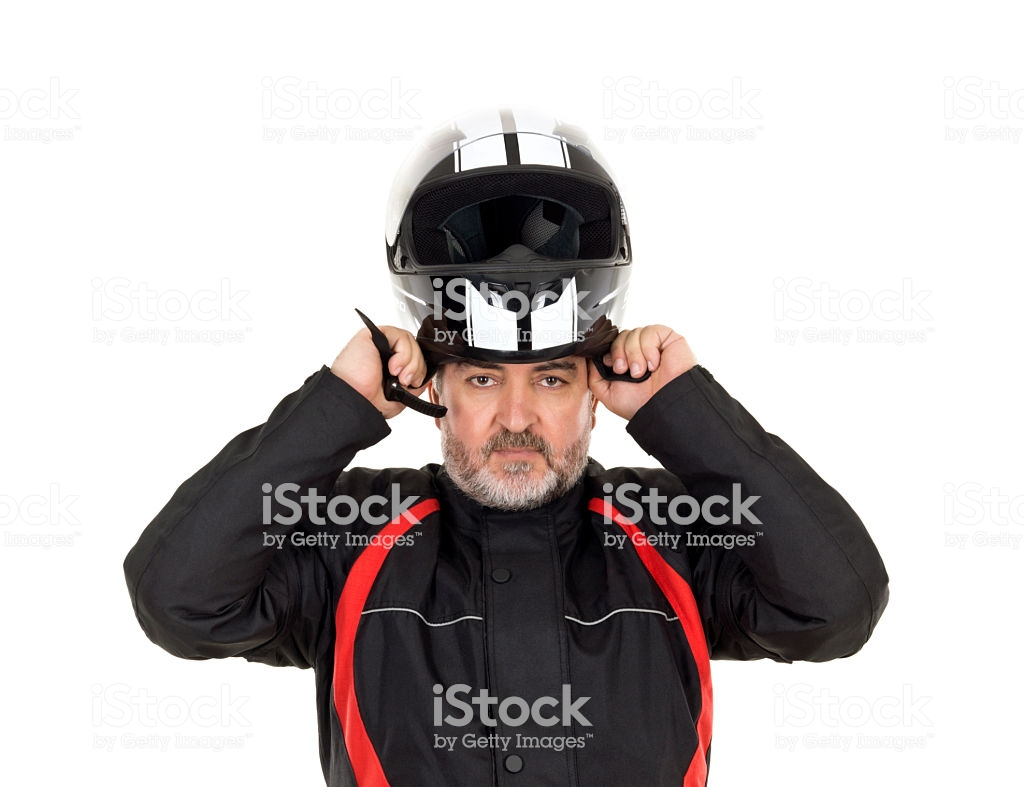helmet: (389, 104, 624, 358)
